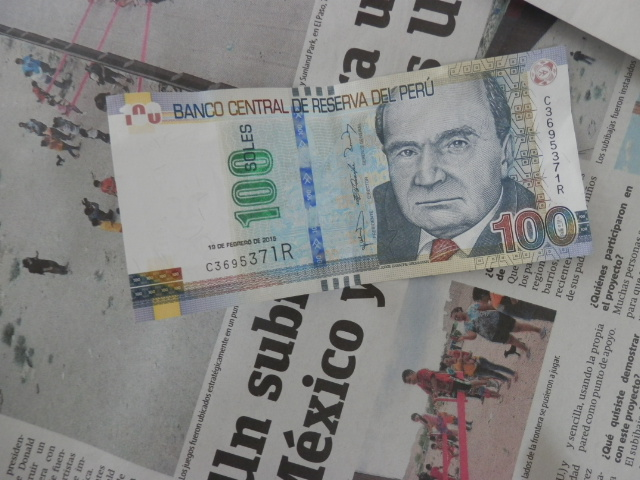B100: (106, 77, 604, 296)
